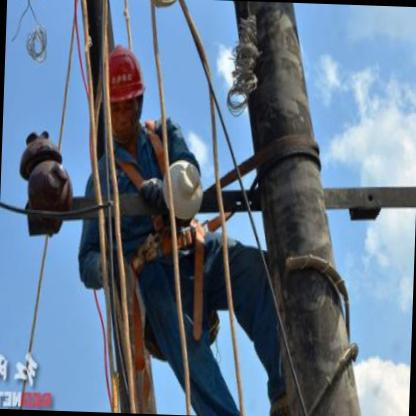helmet: (97, 38, 148, 147)
